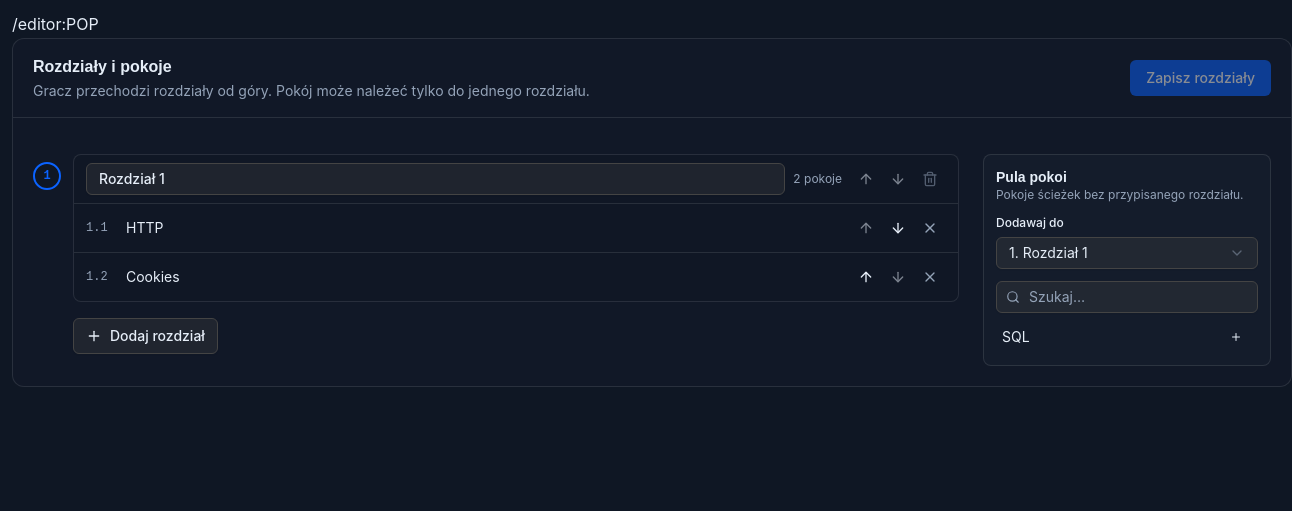
Test case: chapters editor › can undo unsaved changes
Click the button "Dodaj rozdział": coordinates (145, 336) [73,318,218,354]
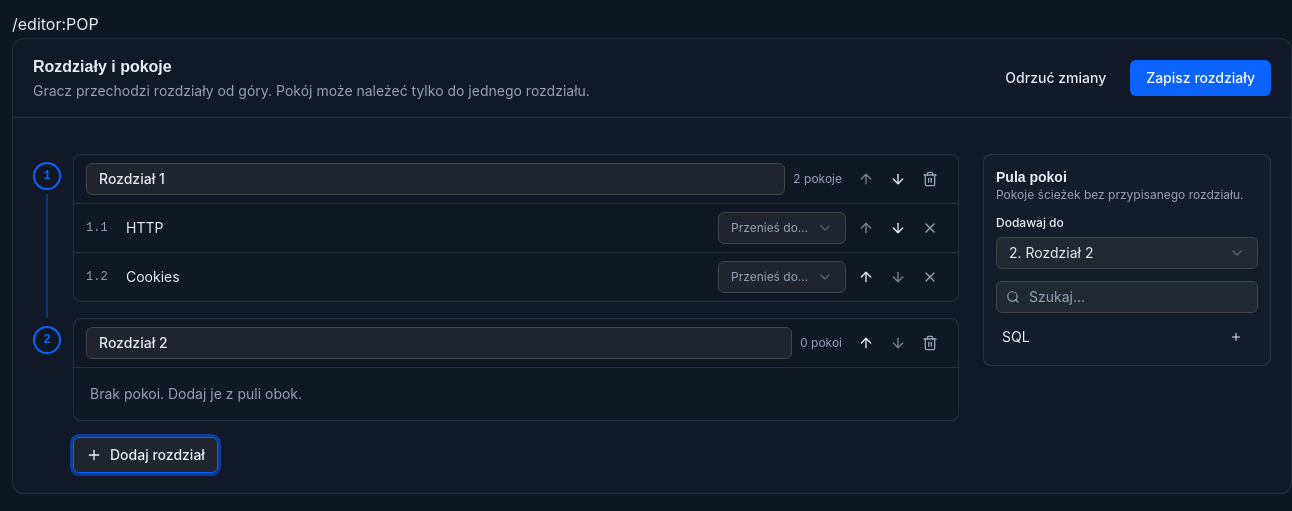
Expected: the 2nd field named "Nazwa rozdziału 2" is shown, [86,327,792,359]
Click the button "Odrzuć zmiany": coordinates (1056, 78) [989,60,1122,96]
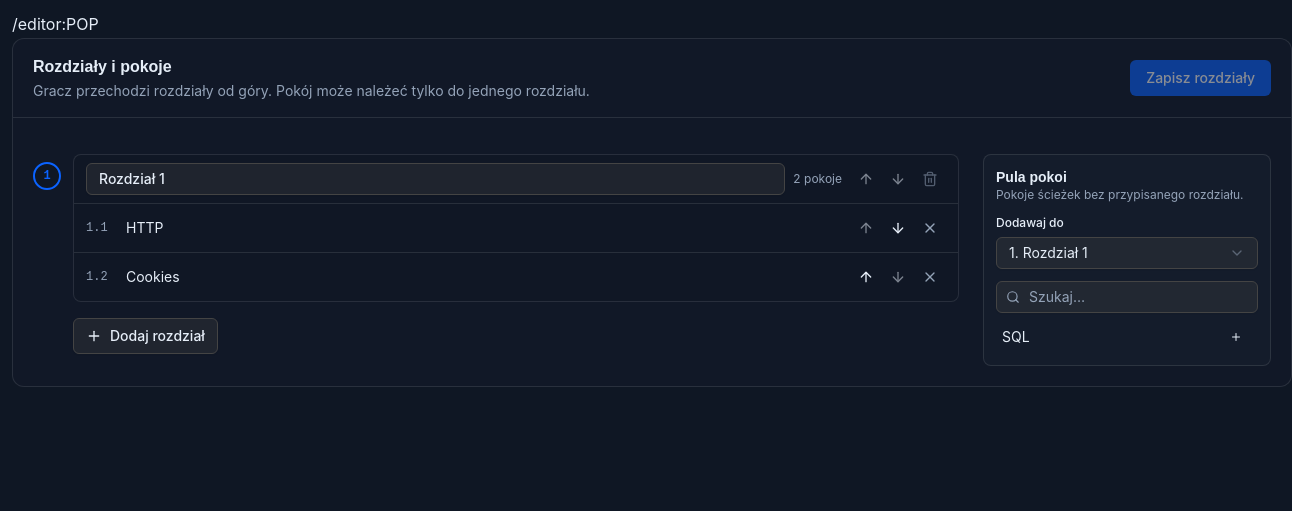
Expected: the field labelled "Nazwa rozdziału 2" is not shown
Expected: the button "Zapisz rozdziały" is disabled, [1130,60,1271,96]
